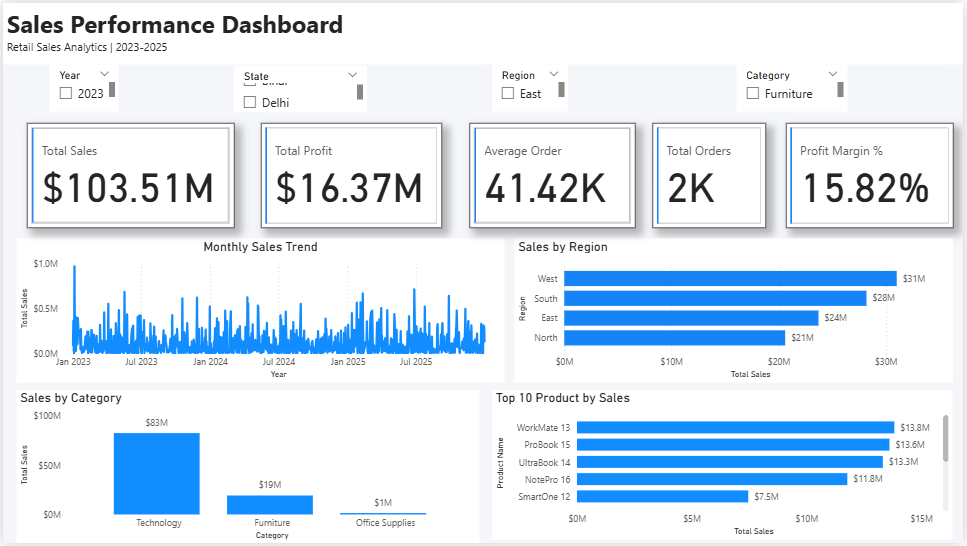

This screenshot's page, from the dashboard's own definition file:
{"tool":"powerbi","page":{"name":"Sales Overview","canvas":[1280,720],"ordinal":0},"visuals":[{"type":"cardVisual","fields":{"Data":["Sales.Total Profit"]},"box":[344.7,160.4,241.5,140.1],"z":0},{"type":"cardVisual","fields":{"Data":["Sales.Total Orders"]},"box":[866.4,160.4,151.2,140.1],"z":1000},{"type":"cardVisual","fields":{"Data":["Sales.Profit Margin %"]},"box":[1043.4,160.4,223.1,140.1],"z":2000},{"type":"lineChart","title":"Monthly Sales Trend","fields":{"Y":["Sales.Total Sales"],"Category":["Sales.Order Date.Variation.Date Hierarchy.Year","Sales.Order Date.Variation.Date Hierarchy.Quarter","Sales.Order Date.Variation.Date Hierarchy.Month","Sales.Order Date.Variation.Date Hierarchy.Day"]},"box":[18.4,313.4,650.8,191.7],"z":3000},{"type":"clusteredBarChart","title":"Sales by Region","fields":{"Category":["Sales.Region"],"Y":["Sales.Total Sales"]},"box":[682.1,313.4,584.4,191.7],"z":4000},{"type":"clusteredColumnChart","title":"Sales by Category","fields":{"Category":["Sales.Category"],"Y":["Sales.Total Sales"]},"box":[18.4,516.2,617.6,204.6],"z":5000},{"type":"clusteredBarChart","title":"Top 10 Product by Sales","fields":{"Category":["Sales.Product Name"],"Y":["Sales.Total Sales"]},"box":[652.6,516.2,613.9,199.1],"z":6000},{"type":"slicer","fields":{"Values":["Sales.Year"]},"box":[62.7,83,92.2,62.7],"z":7000},{"type":"slicer","fields":{"Values":["Sales.Region"]},"box":[652.6,83,101.4,62.7],"z":8000},{"type":"slicer","fields":{"Values":["Sales.Category"]},"box":[977.1,83,147.5,62.7],"z":9000},{"type":"slicer","fields":{"Values":["Sales.State"]},"box":[307.9,84.8,177,60.8],"z":10000},{"type":"cardVisual","fields":{"Data":["Sales.Total Sales"]},"box":[31.3,160.4,276.5,140.1],"z":11000},{"type":"textbox","box":[0,0,1280.9,82.2],"z":12000},{"type":"cardVisual","fields":{"Data":["Sales.Average Order"]},"box":[621.3,160.4,221.2,140.1],"z":13000}]}

Visuals, with their boxes in screenshot pixels (x1, y1, x2, y2), scaled from the page's 1280x720 canvas onto the 967x546 screenshot:
cardVisual - Sales.Total Profit: (260, 122, 443, 228)
cardVisual - Sales.Total Orders: (655, 122, 769, 228)
cardVisual - Sales.Profit Margin %: (788, 122, 957, 228)
"Monthly Sales Trend" lineChart: (14, 238, 506, 383)
"Sales by Region" clusteredBarChart: (515, 238, 957, 383)
"Sales by Category" clusteredColumnChart: (14, 391, 480, 545)
"Top 10 Product by Sales" clusteredBarChart: (493, 391, 957, 542)
slicer - Sales.Year: (47, 63, 117, 110)
slicer - Sales.Region: (493, 63, 570, 110)
slicer - Sales.Category: (738, 63, 850, 110)
slicer - Sales.State: (233, 64, 366, 110)
cardVisual - Sales.Total Sales: (24, 122, 233, 228)
textbox: (0, 0, 966, 62)
cardVisual - Sales.Average Order: (469, 122, 636, 228)
